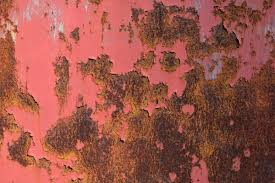rust: (200, 89, 275, 176), (116, 76, 154, 180), (141, 8, 199, 46), (49, 57, 69, 102)
